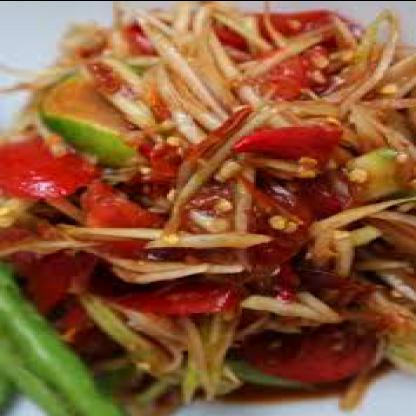Papaya Salad: (0, 2, 414, 416)
